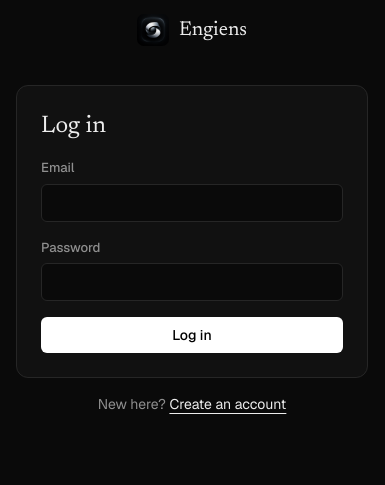
shows the server error when login fails
Step 1. Type "a@b.com" into the field labelled "Email" → (192, 202), box x1=41 y1=184 x2=343 y2=222
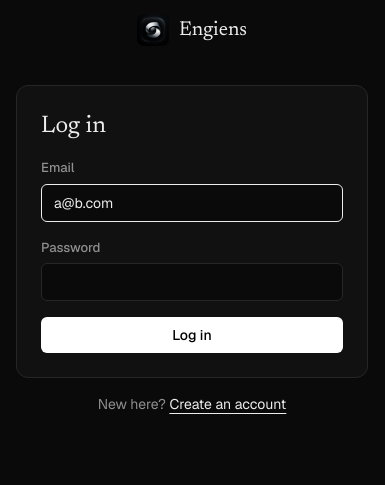
Step 2. Type "password123" into the password field labelled "Password" → (192, 282), box x1=41 y1=263 x2=343 y2=301
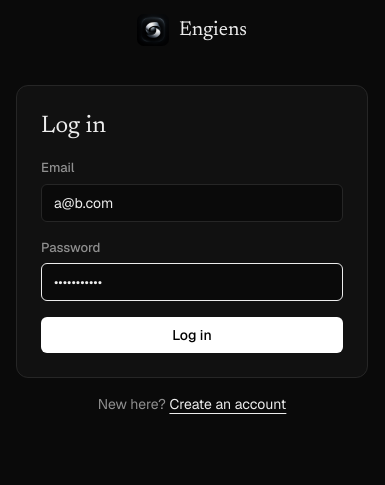
Step 3. Click the button "Log in" → (192, 335), box x1=41 y1=317 x2=343 y2=353
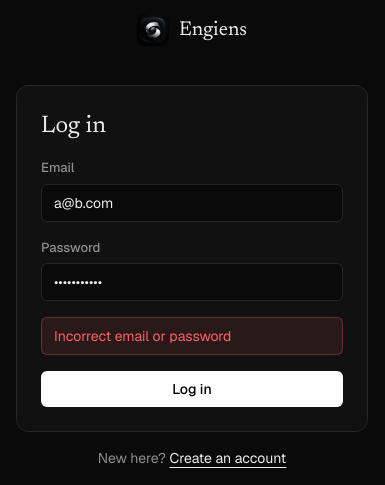
Now the message reads "Incorrect email or password", box x1=54 y1=327 x2=231 y2=345
